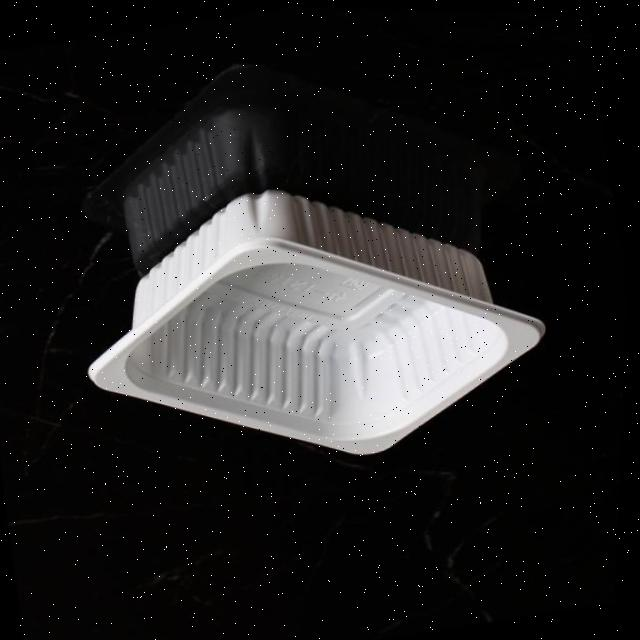disposable: (71, 162, 563, 502)
